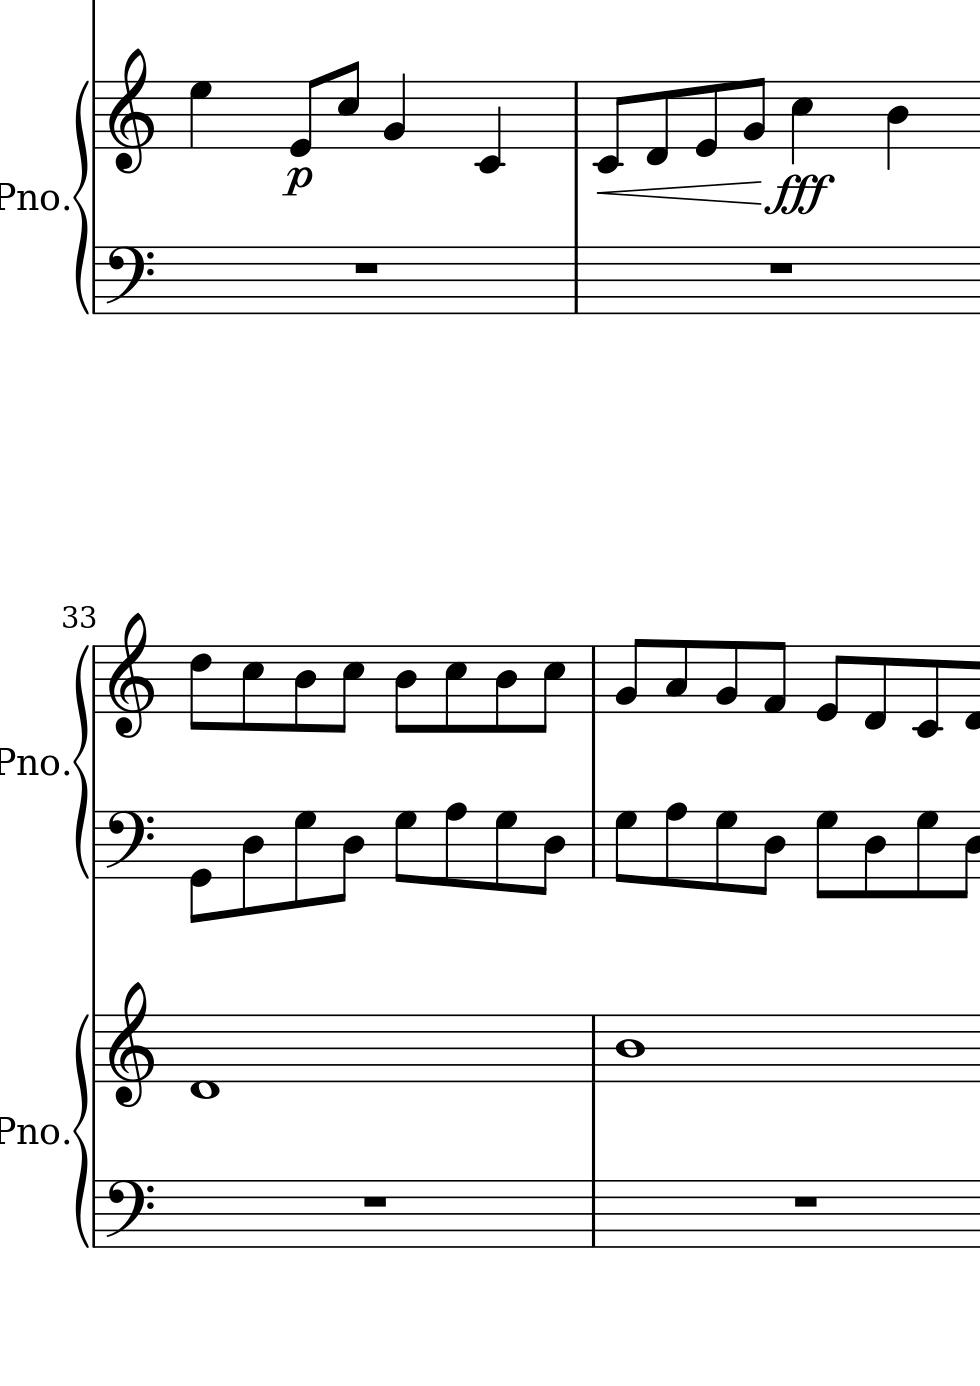1_-1: (190, 1011, 220, 1103)
1_3: (614, 1012, 645, 1083)
3: (78, 603, 97, 630), (62, 603, 78, 630)
4_-2: (474, 77, 504, 175)
4_2: (382, 71, 408, 150)
4_4: (883, 78, 910, 173)
4_5: (788, 78, 813, 166)
4_7: (187, 80, 214, 152)
8_-1: (861, 644, 889, 732), (644, 78, 670, 166)
8_-2: (592, 78, 627, 174), (911, 644, 943, 740)
8_0: (288, 74, 322, 160), (813, 643, 847, 724), (188, 811, 212, 924), (693, 78, 719, 158)
8_1: (760, 639, 787, 716)
8_2: (613, 637, 645, 714), (713, 639, 739, 715), (742, 75, 767, 151)
8_3: (663, 638, 689, 715)
8_4: (333, 809, 365, 903), (533, 809, 566, 897), (754, 809, 786, 897), (240, 810, 264, 916), (861, 809, 887, 901), (493, 644, 518, 735), (292, 644, 316, 734), (393, 644, 417, 737)
8_5: (330, 643, 364, 736), (533, 643, 565, 735), (335, 59, 361, 150), (240, 643, 265, 733), (443, 643, 467, 735)
8_6: (187, 643, 213, 733)
8_7: (291, 808, 317, 910), (912, 809, 940, 900), (813, 809, 840, 900), (712, 809, 738, 893), (492, 809, 517, 893), (613, 809, 638, 885), (393, 809, 417, 885)
8_8: (661, 801, 687, 889), (441, 801, 467, 889)
Brace: (71, 641, 90, 879), (72, 1010, 90, 1251), (72, 76, 90, 317)
Crescendo_hairpin: (598, 179, 762, 208)
Fclef: (102, 808, 154, 878), (102, 244, 153, 314), (103, 1179, 154, 1245)
Gclef: (106, 46, 154, 175), (107, 611, 155, 739), (106, 980, 152, 1109)
Pno: (1, 743, 60, 782), (1, 179, 60, 213), (1, 1115, 60, 1148)
Rests1: (789, 1192, 822, 1212), (358, 1192, 391, 1211), (350, 259, 381, 277), (765, 259, 797, 276)
Single_barline: (568, 82, 587, 150), (584, 1015, 602, 1082), (567, 247, 584, 313), (587, 646, 602, 713), (585, 811, 601, 878), (585, 1180, 601, 1247), (88, 81, 102, 150), (88, 646, 102, 713), (88, 1015, 102, 1082), (88, 247, 101, 314), (88, 811, 101, 878), (88, 1180, 101, 1247)
fff: (762, 169, 838, 218)
p: (280, 166, 313, 200)
